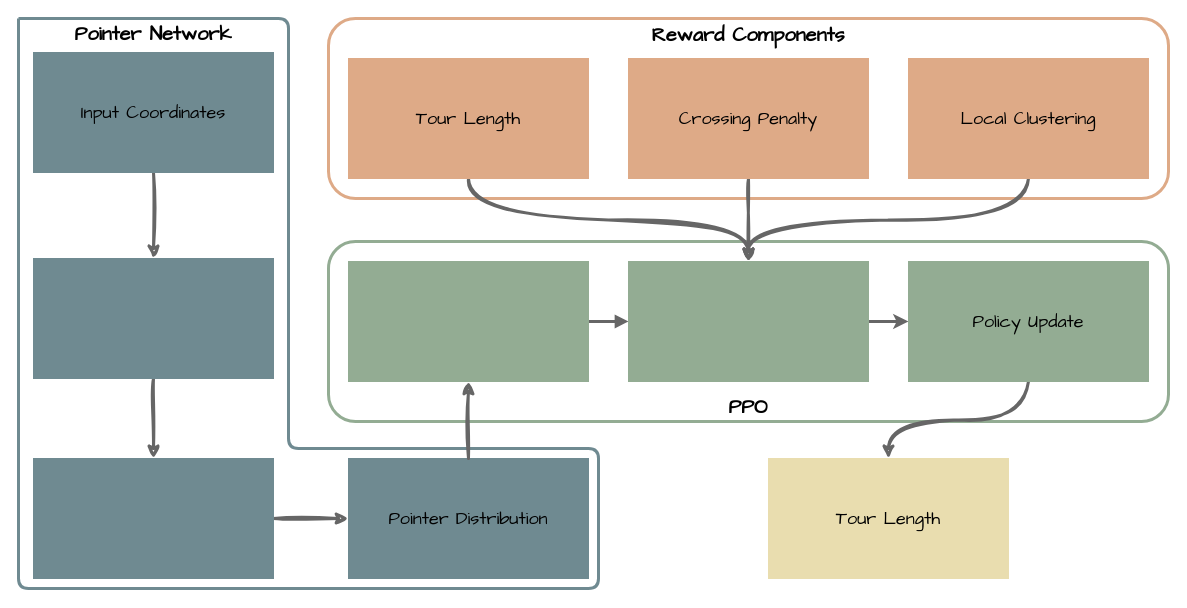
This 1187x608 diagram has some shape labels left out. The centre of each missing label's shape, as x and y in pixels:
Action Sampling: (x=468, y=321)
LSTM Decoder: (x=153, y=518)
Reward Calculation: (x=748, y=321)
Transformer Encoder: (x=153, y=318)
